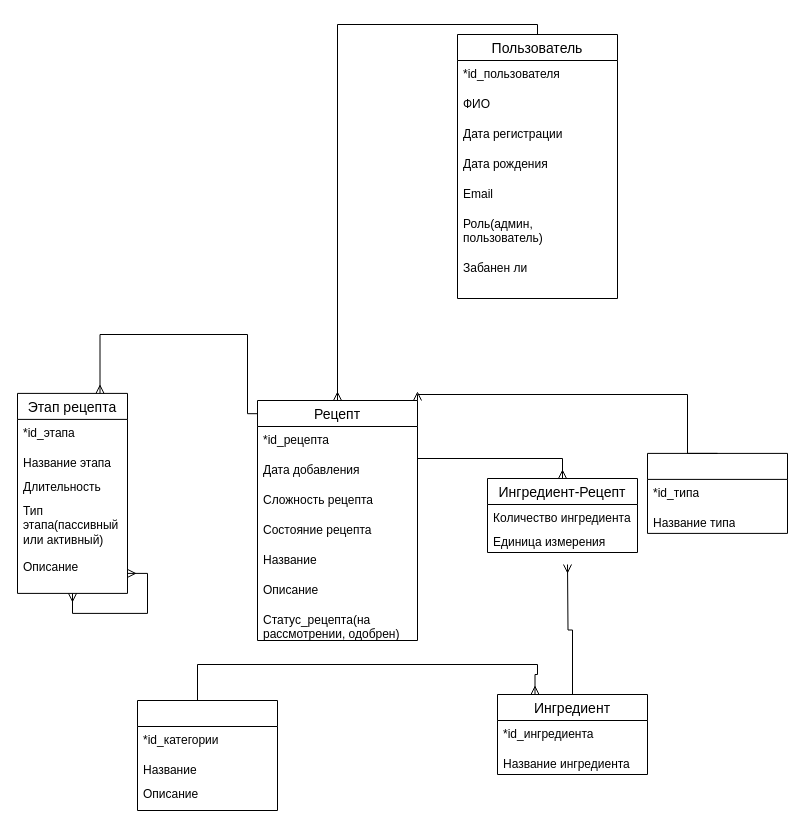
This 805x831 diagram has some shape labels left out. The box of each missing label's shape, as (x1, y1, x2, y2) in pixels:
Категория: (136, 700, 278, 810)
Тип рецепта: (646, 452, 788, 533)
